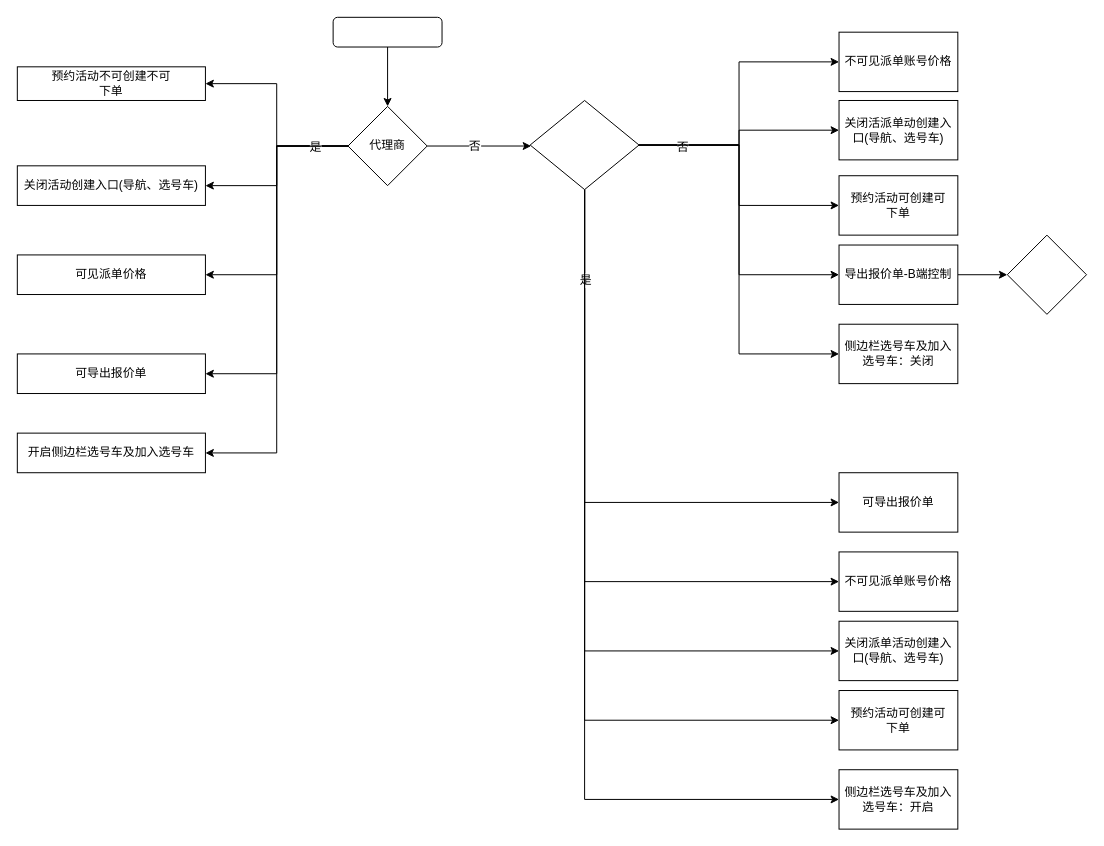
The diagram is 1104 pixels wide and 846 high, and some of its shapes have lost their labels. The centre of each missing label's shape, as x and y in pixels:
"A端登录" belongs at (387,31).
"可导出报价单配置" belongs at (1046,274).
"派单价格是否可见" belongs at (584,144).
